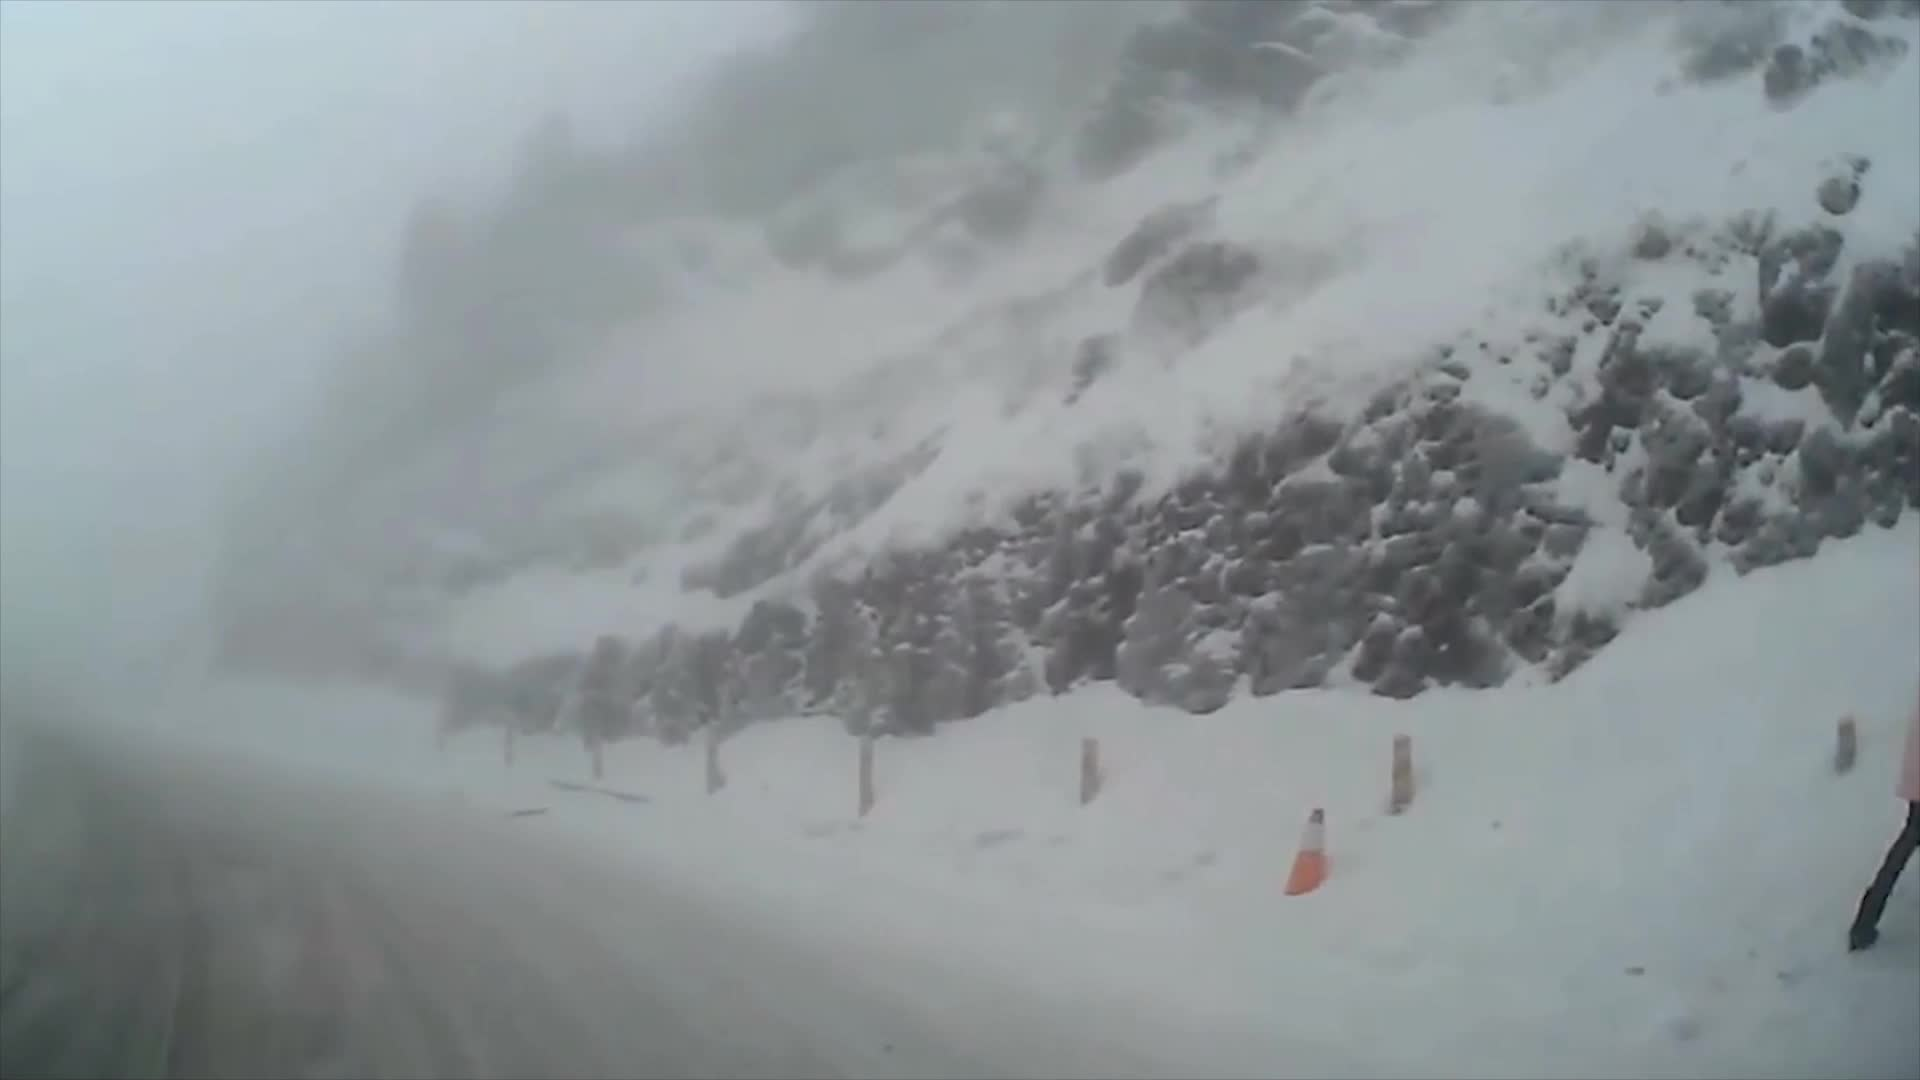pedestrian: (1850, 512, 1920, 955)
